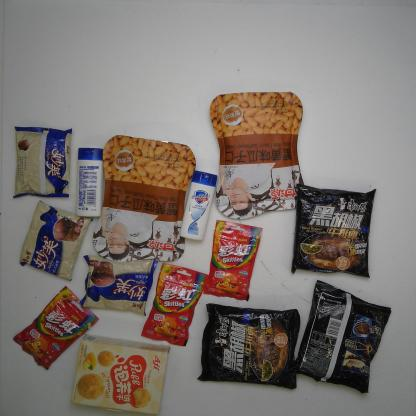Candy: (11, 284, 102, 372), (139, 260, 212, 350), (202, 217, 265, 303)
Dessert: (68, 330, 173, 416), (16, 197, 94, 282), (77, 250, 160, 319), (10, 124, 74, 202)
Dried Fruit: (90, 132, 198, 264), (207, 89, 308, 220)
Instant Noodles: (289, 276, 394, 400), (194, 302, 302, 393), (289, 181, 378, 282)
Personal Hygiene: (178, 168, 219, 243), (74, 144, 108, 220)
